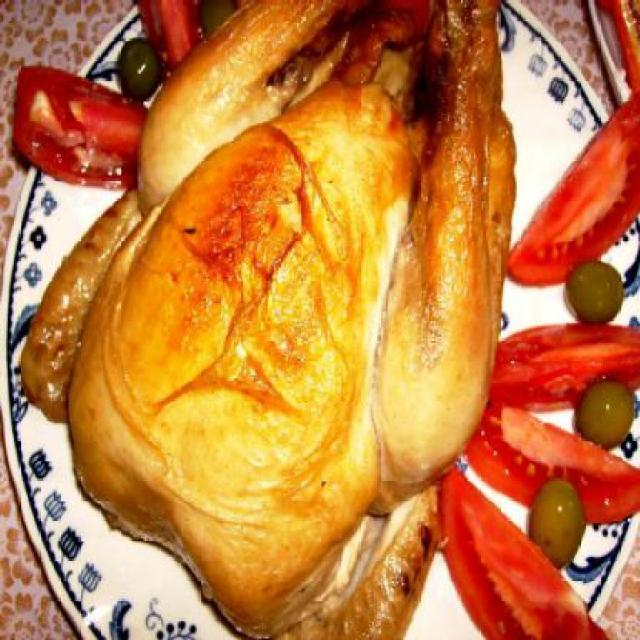Chicken roast: (44, 26, 467, 639)
Tomato: (432, 482, 603, 636), (520, 100, 638, 274), (488, 413, 640, 516), (21, 57, 138, 180), (499, 329, 638, 400)
